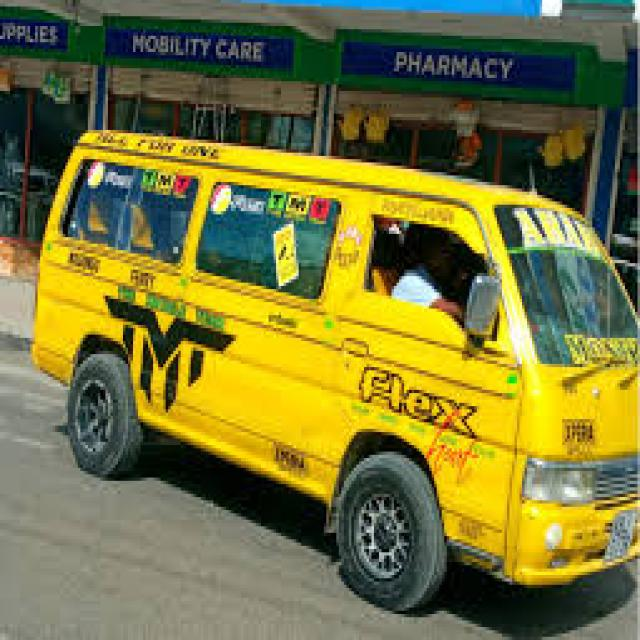matatu: (12, 75, 640, 628)
